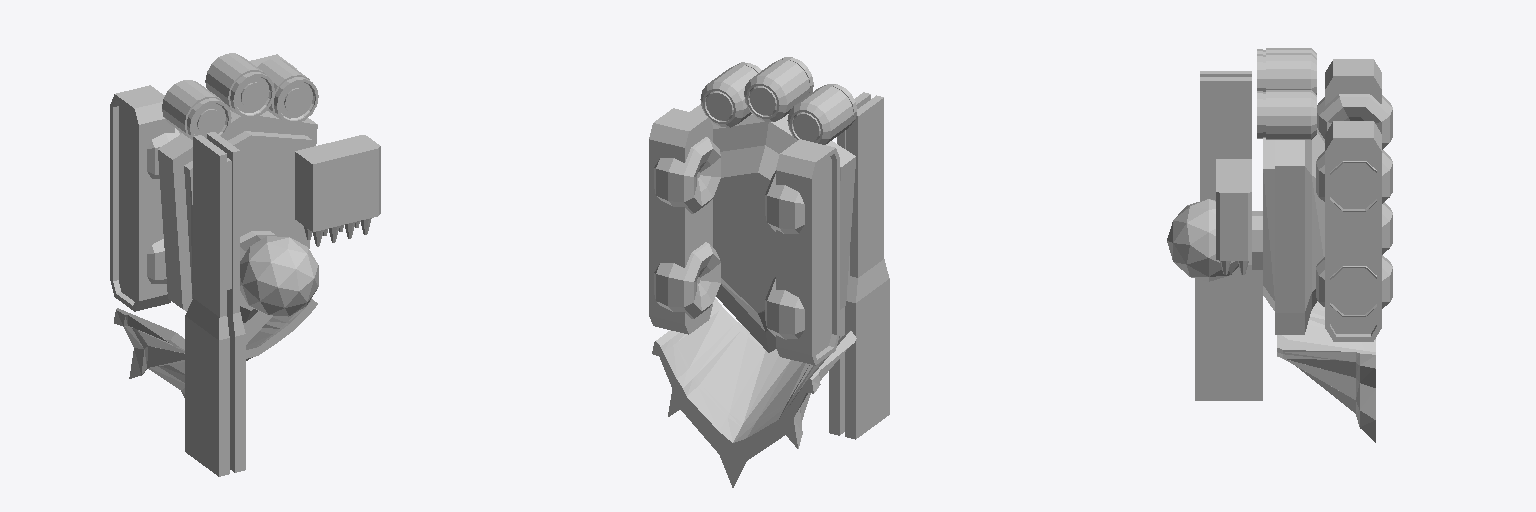
The model's file is bot_1.obj.
3 views of the same model, side by side, from view 1: azimuth 30°, elevation 25°; view 2: azimuth 150°, elevation 25°; view 3: azimuth 270°, elevation 25° (orthographic).
Visible parts, largest first — view 1: railgun, MainBody_body, tracks, energy_container, rocket_rockets, radar, shield, wheels; view 2: tracks, shield, railgun, MainBody_body, wheels, energy_container; view 3: tracks, railgun, MainBody_body, shield, energy_container, wheels, radar, rocket_rockets.
Boxes of the visible parts, box(x1,y1,x2,y2) form: railgun: box(185, 132, 245, 476); MainBody_body: box(158, 110, 317, 344); tracks: box(110, 54, 296, 311); energy_container: box(162, 53, 318, 139); rocket_rockets: box(295, 135, 380, 246); radar: box(240, 231, 318, 316); shield: box(114, 298, 317, 397); wheels: box(147, 128, 181, 283); tracks: box(649, 108, 839, 365); shield: box(652, 298, 856, 487); railgun: box(829, 92, 889, 439); MainBody_body: box(711, 114, 855, 352); wheels: box(654, 137, 804, 339); energy_container: box(700, 57, 856, 144); tracks: box(1325, 59, 1381, 341); railgun: box(1195, 71, 1262, 400); MainBody_body: box(1263, 128, 1324, 334); shield: box(1277, 301, 1375, 442); energy_container: box(1257, 48, 1316, 139); wheels: box(1316, 94, 1392, 316); radar: box(1167, 199, 1262, 281); rocket_rockets: box(1216, 159, 1251, 274).
Size of the model in its own units: 2.61 by 5.11 by 2.7.